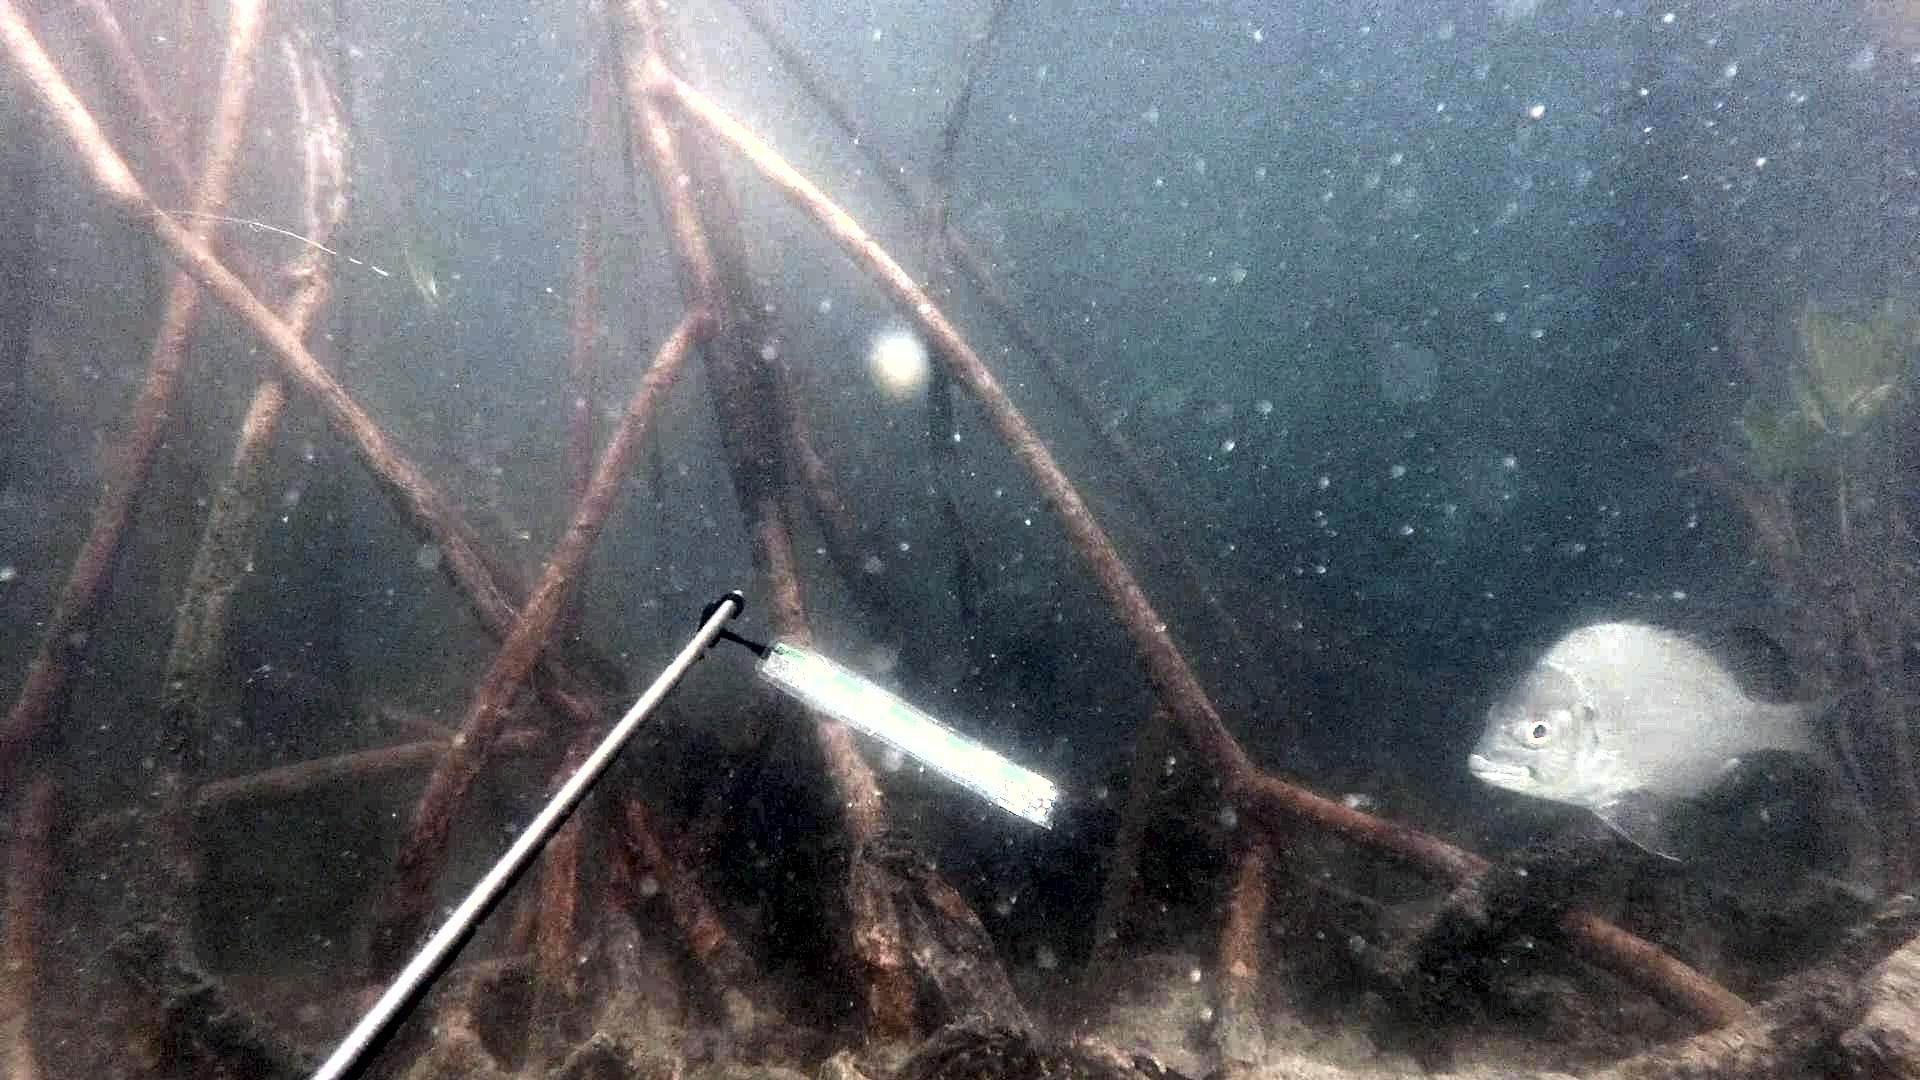acanthopagrus palmaris: (1458, 603, 1914, 878)
